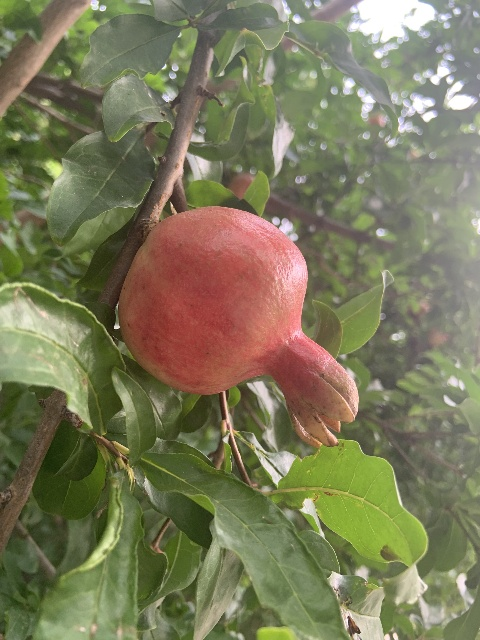ripe: (118, 205, 357, 446)
